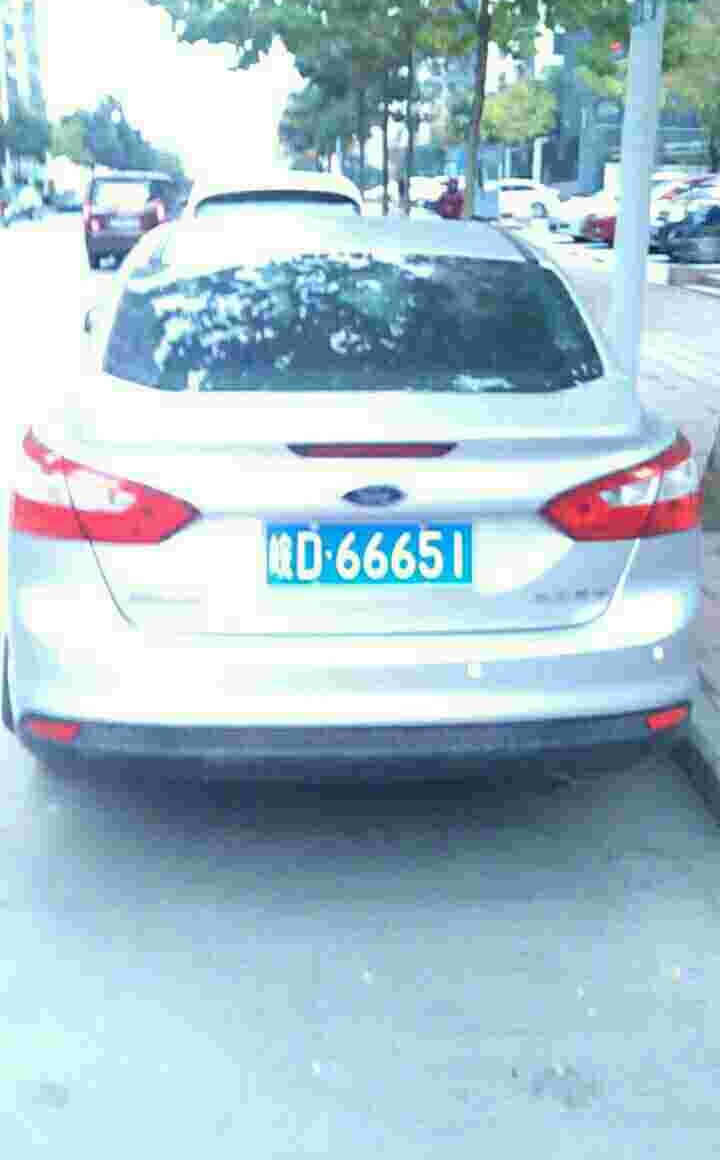license_plate: (267, 515, 478, 591)
